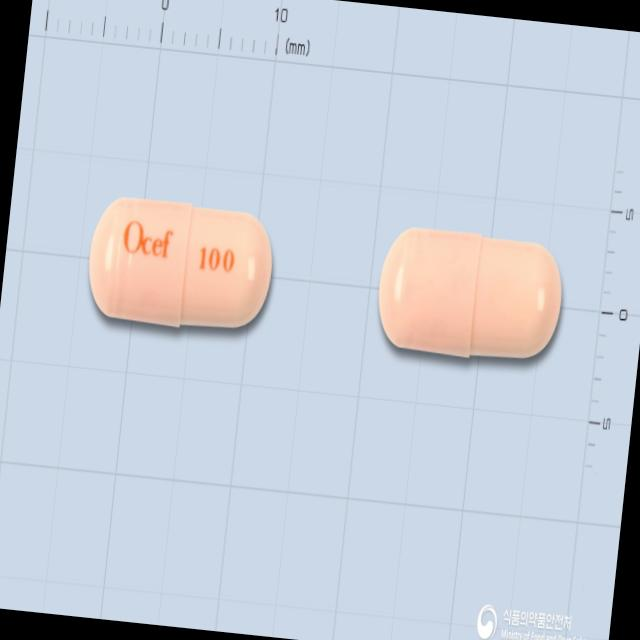Omnicef Cap: (82, 191, 278, 338)
